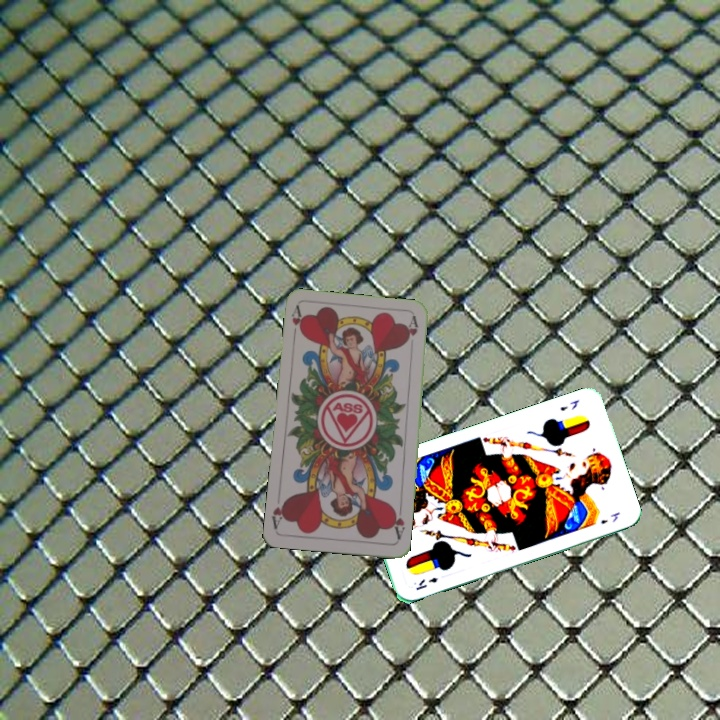EK: (412, 573, 440, 593), (556, 396, 582, 413)
HA: (287, 303, 307, 344), (388, 502, 407, 542)
